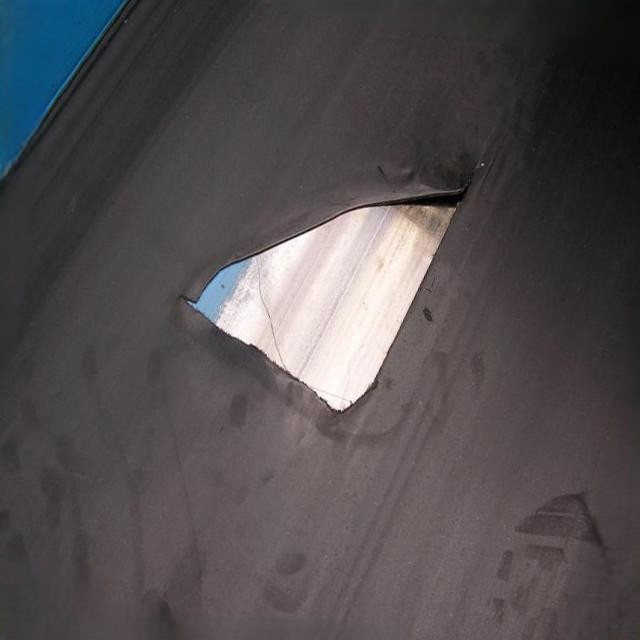Hole: (176, 186, 474, 420)
